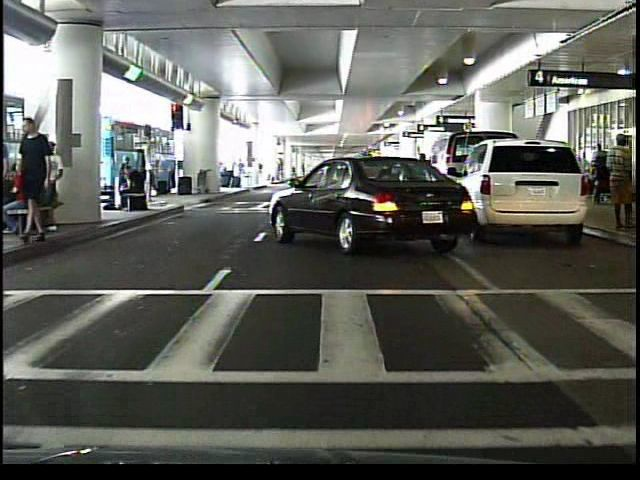person: (602, 131, 634, 232), (113, 161, 148, 213)
